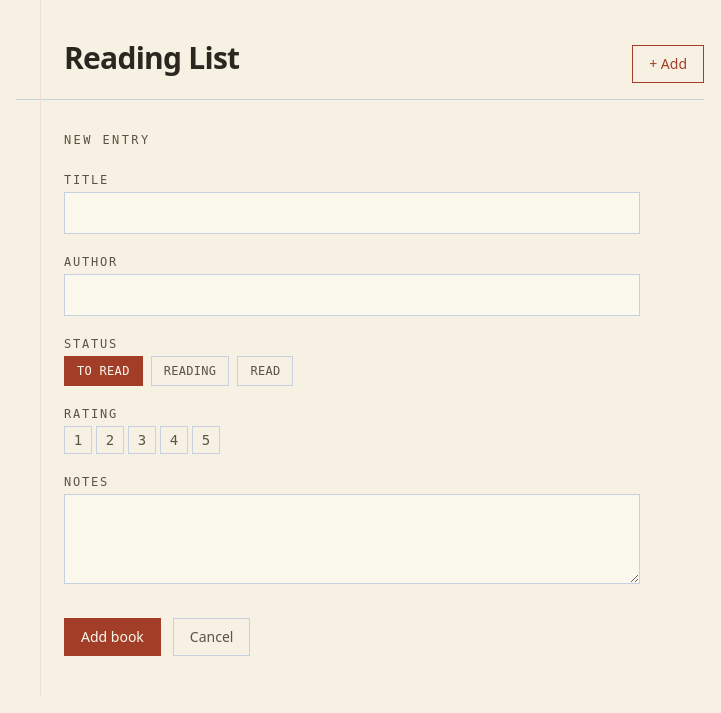
Scenario: Reading List routes › adds a book and returns to the list
The width and height of the screenshot is (721, 713).
Type "Dune" into the field labelled "Title" at (352, 213), box 64,192 -> 640,234
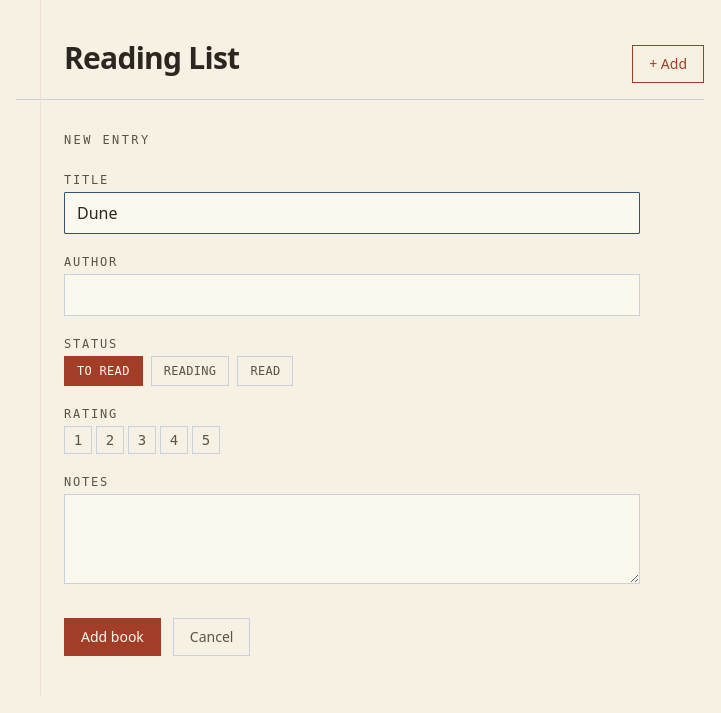
Type "Frank Herbert" into the field labelled "Author" at (352, 295), box 64,274 -> 640,316
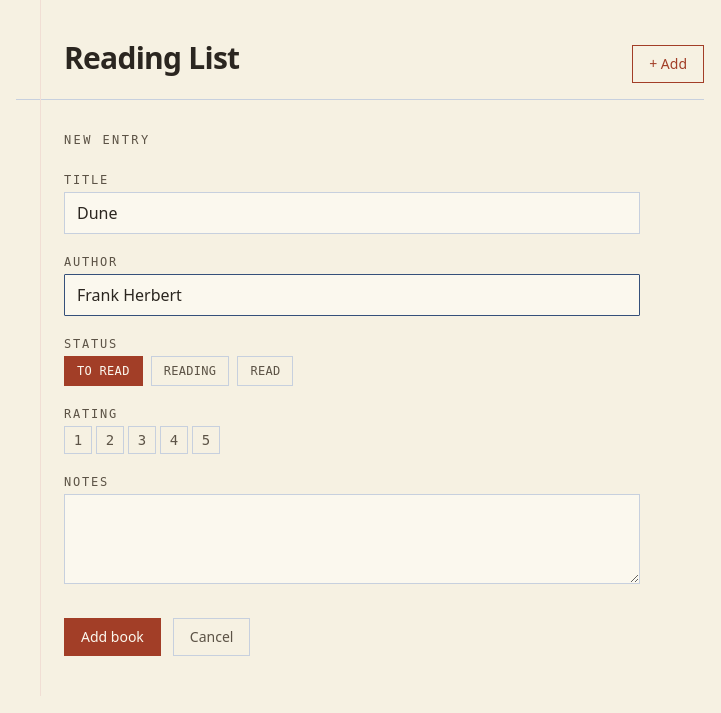
Click the button "Add book" at (112, 637), box 64,618 -> 161,656
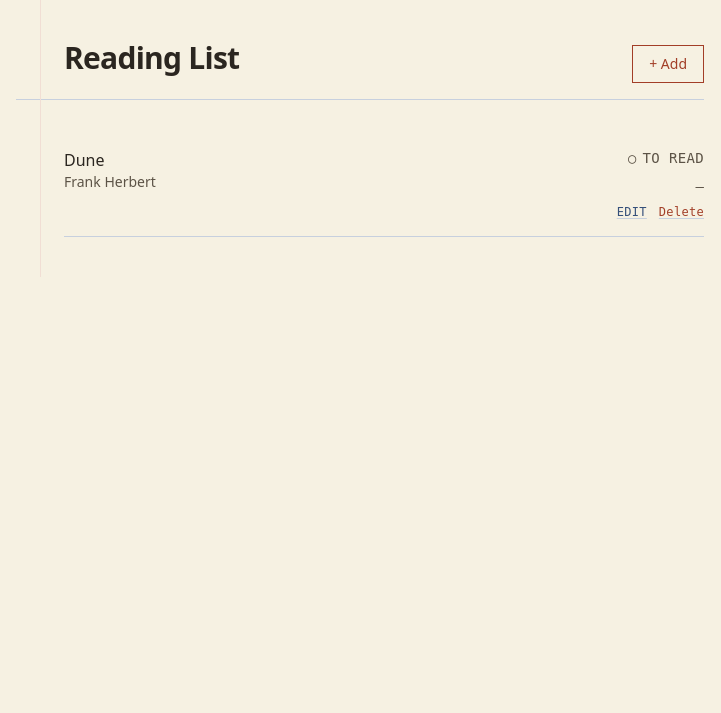
expect the heading "Reading List" is shown: met, box 64,40 -> 239,76
expect the text "Dune" is shown: met, box 64,149 -> 104,171
